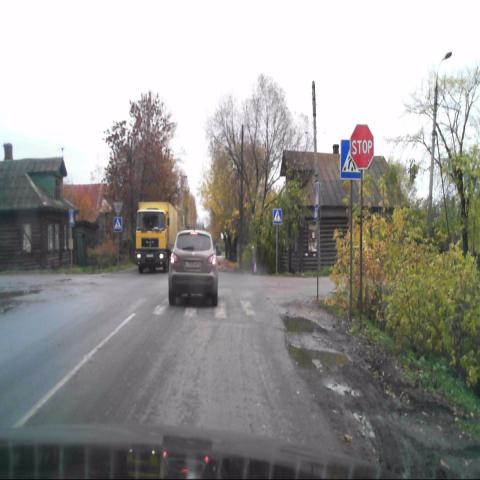2_5: (350, 125, 374, 170)
